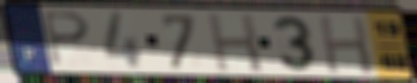3: (269, 14, 319, 73)
4: (100, 10, 147, 71)
7: (160, 13, 198, 70)
H: (205, 11, 266, 74), (316, 13, 377, 76)
P: (40, 10, 93, 69)
